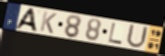8: (63, 13, 83, 39), (84, 18, 102, 42)
A: (13, 7, 39, 33)
K: (38, 10, 58, 35)
L: (107, 22, 123, 45)
U: (125, 23, 150, 50)
